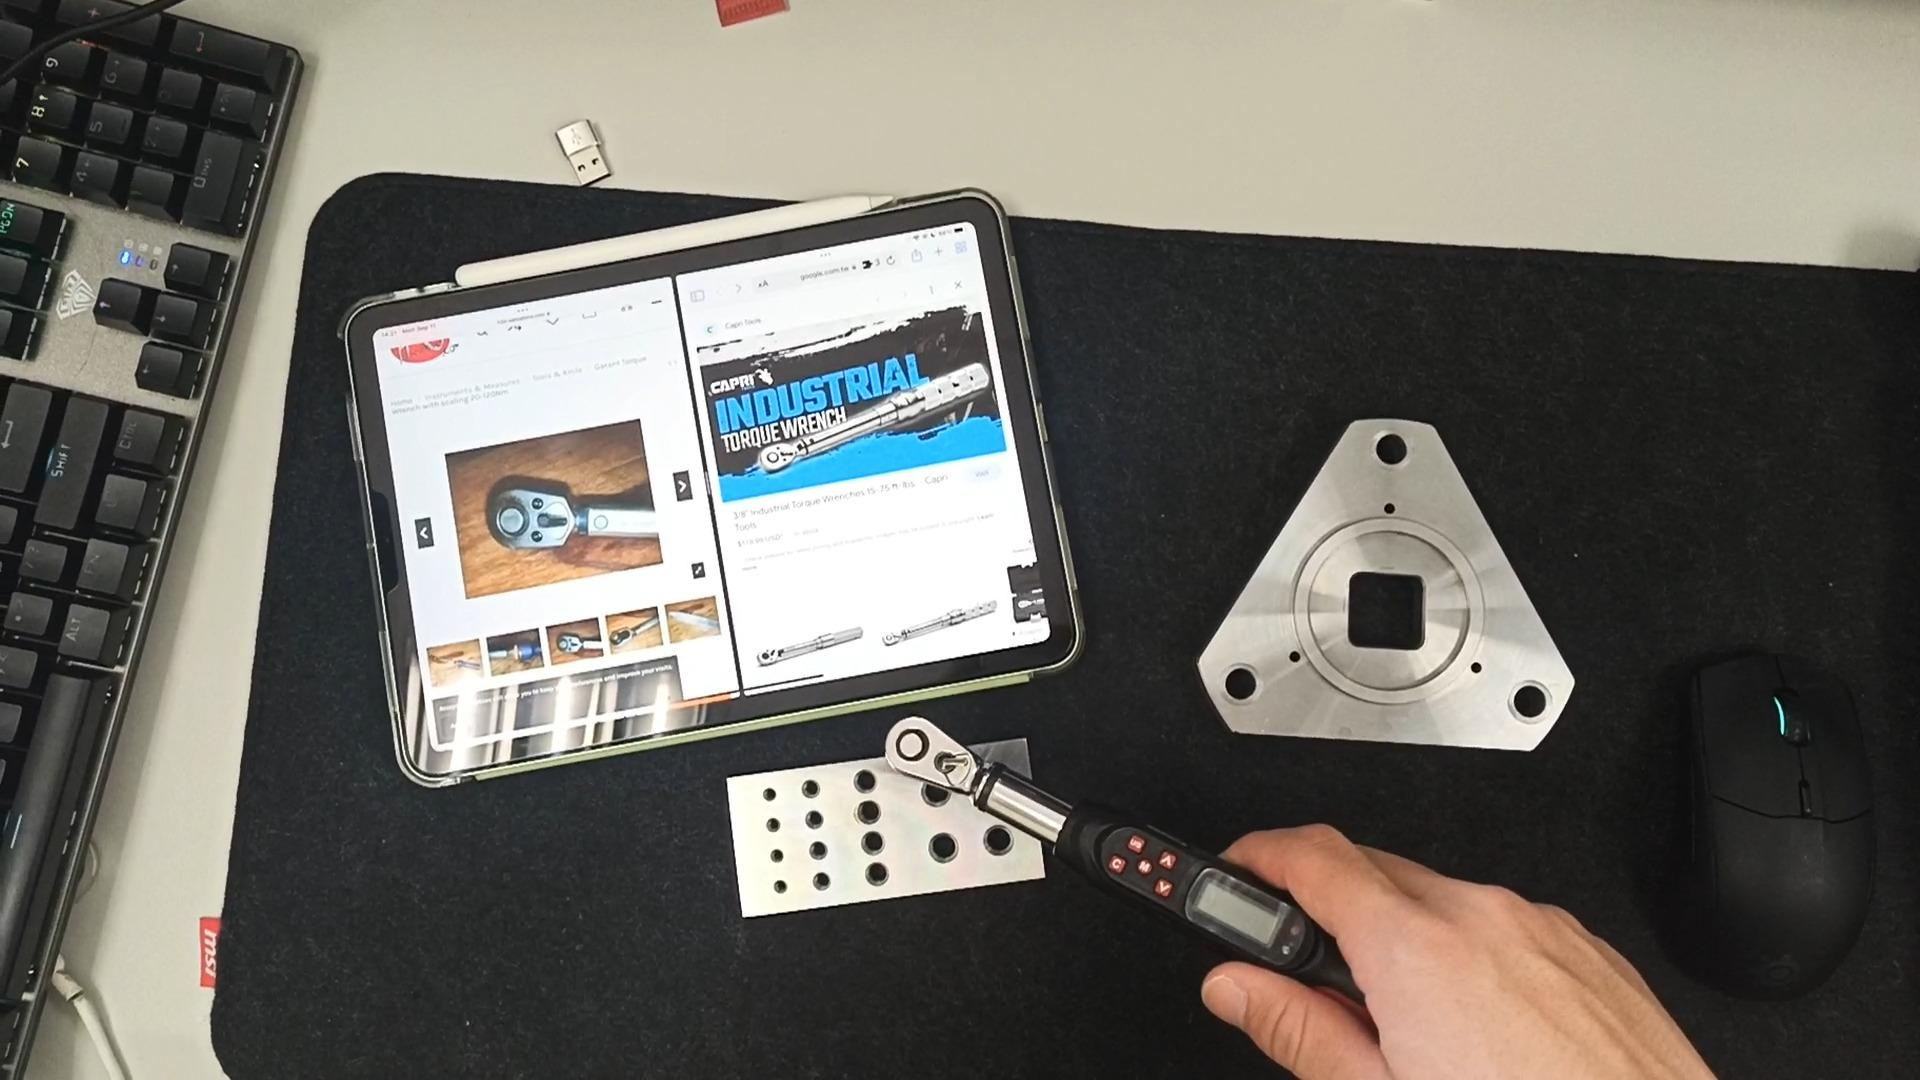Tool: (477, 477, 589, 551), (886, 708, 980, 796), (757, 430, 810, 480)
hole: (1494, 683, 1569, 737), (1205, 666, 1270, 713), (1366, 433, 1431, 477), (911, 825, 971, 864), (975, 825, 1029, 862), (913, 782, 960, 810), (853, 831, 898, 860), (849, 799, 894, 827), (858, 861, 903, 889), (848, 766, 890, 793), (790, 779, 829, 803), (795, 843, 833, 865), (794, 810, 832, 831), (802, 873, 837, 894), (754, 786, 790, 807), (760, 814, 794, 833), (760, 848, 793, 868), (762, 877, 796, 895)
